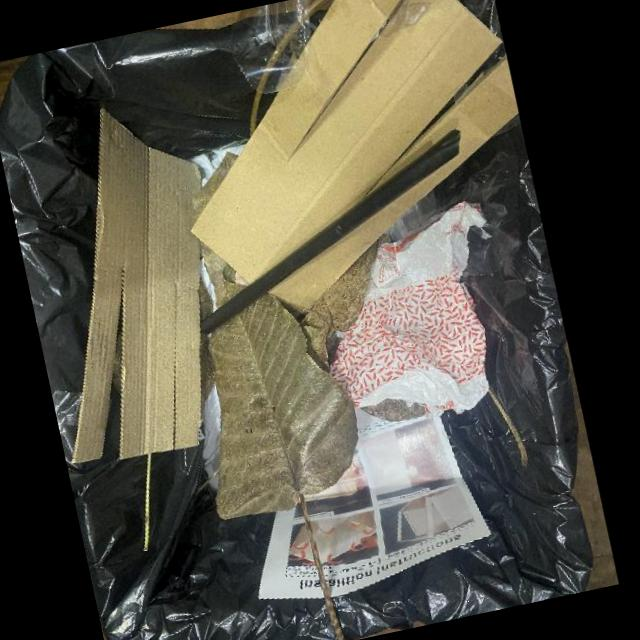carton: (191, 0, 519, 311), (71, 107, 201, 463)
giay: (258, 406, 490, 599), (328, 199, 490, 416)
la_cay: (200, 243, 357, 640), (298, 233, 395, 373)
ong_hut_nhua: (198, 130, 462, 334)
